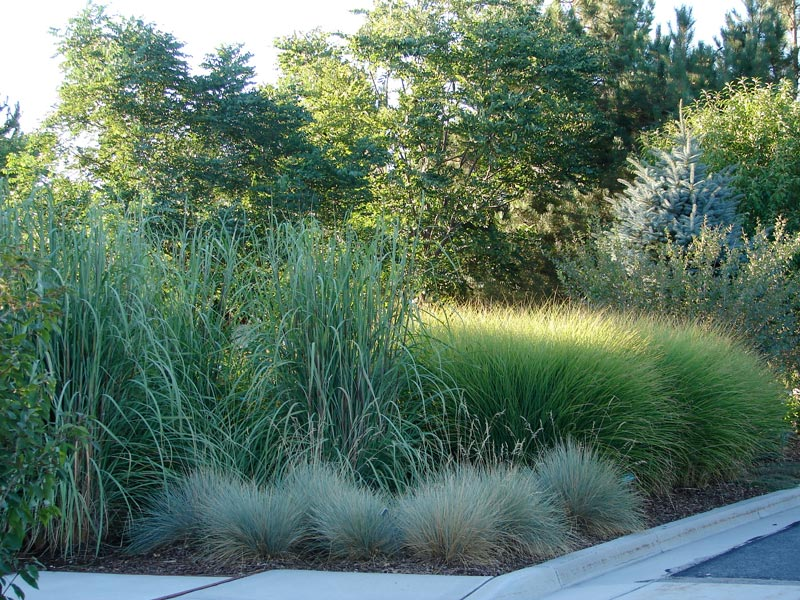grass: (4, 285, 795, 563)
